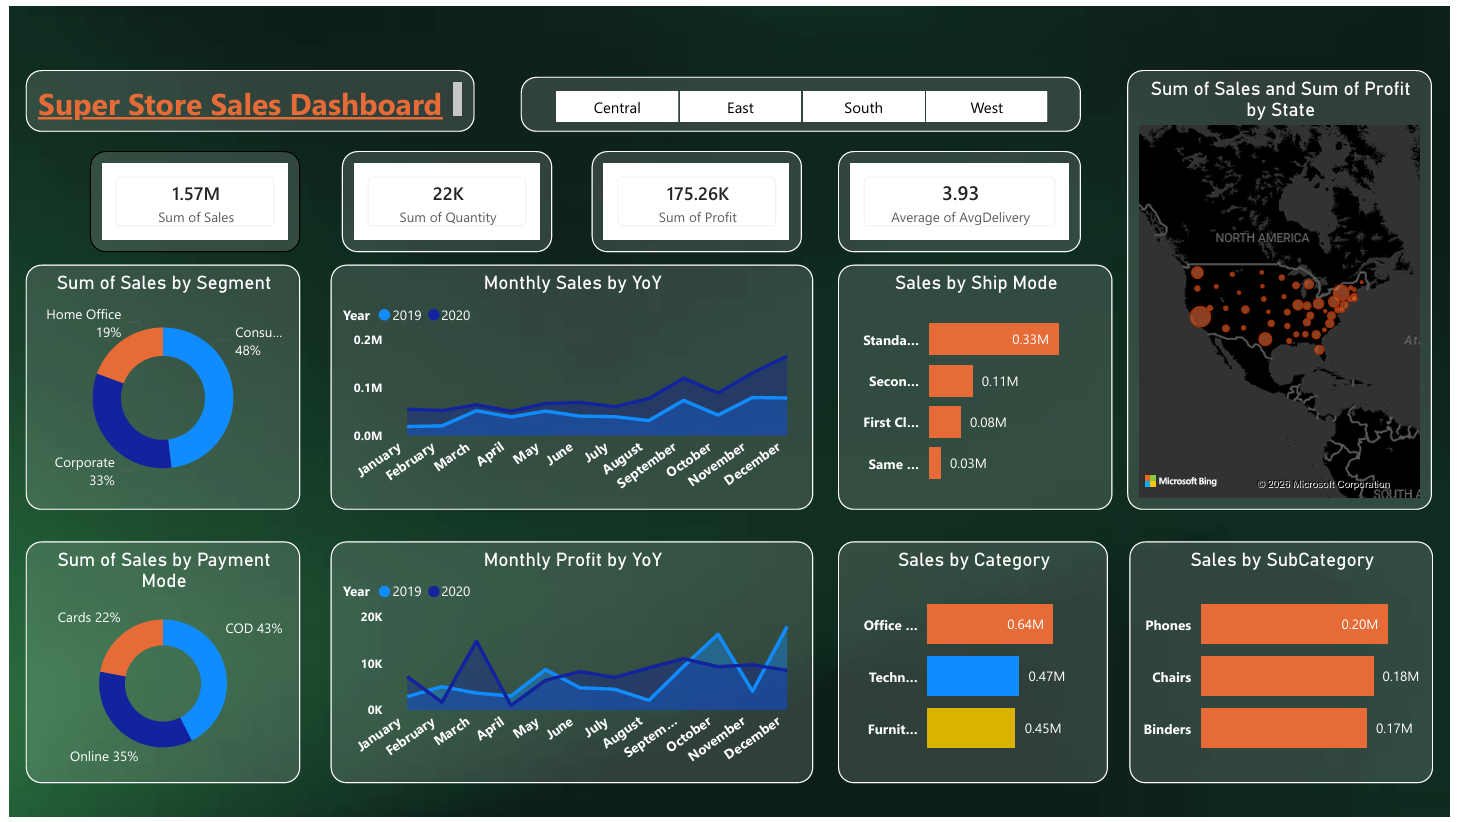

The dashboard page shown, as its layout file describes it:
{"tool":"powerbi","page":{"name":"Page 1","canvas":[1280,720],"ordinal":0},"visuals":[{"type":"barChart","title":"Sales by Category","fields":{"Category":["SuperStore_Sales_Dataset.Category"],"Y":["Sum(SuperStore_Sales_Dataset.Sales)"]},"box":[735.5,474.8,240.1,215.4],"z":0},{"type":"clusteredBarChart","title":"Sales by SubCategory","fields":{"Category":["SuperStore_Sales_Dataset.Sub-Category"],"Y":["Sum(SuperStore_Sales_Dataset.Sales)"]},"box":[994.9,474.8,270.3,215.4],"z":1000},{"type":"clusteredBarChart","title":"Sales by Ship Mode","fields":{"Y":["Sum(SuperStore_Sales_Dataset.Sales)"],"Category":["SuperStore_Sales_Dataset.Ship Mode"]},"box":[735.5,229.2,244.3,218.2],"z":2000},{"type":"areaChart","title":"Monthly Sales by YoY","fields":{"Y":["Sum(SuperStore_Sales_Dataset.Sales)"],"Category":["SuperStore_Sales_Dataset.Order Date.Variation.Date Hierarchy.Month","SuperStore_Sales_Dataset.Order Date.Variation.Date Hierarchy.Day"],"Series":["SuperStore_Sales_Dataset.Order Date.Variation.Date Hierarchy.Year"]},"box":[285.4,229.2,428.1,218.2],"z":3000},{"type":"areaChart","title":"Monthly Profit by YoY","fields":{"Category":["SuperStore_Sales_Dataset.Order Date.Variation.Date Hierarchy.Month","SuperStore_Sales_Dataset.Order Date.Variation.Date Hierarchy.Day"],"Series":["SuperStore_Sales_Dataset.Order Date.Variation.Date Hierarchy.Year"],"Y":["Sum(SuperStore_Sales_Dataset.Profit)"]},"box":[285.4,474.8,428.1,215.4],"z":4000},{"type":"map","title":"Sum of Sales and Sum of Profit by State","fields":{"Category":["SuperStore_Sales_Dataset.State"],"Size":["Sum(SuperStore_Sales_Dataset.Sales)"]},"box":[993.5,56.3,270.3,391.1],"z":5000},{"type":"donutChart","fields":{"Category":["SuperStore_Sales_Dataset.Segment"],"Y":["Sum(SuperStore_Sales_Dataset.Sales)"]},"box":[13.7,229.2,244.3,218.2],"z":6000},{"type":"donutChart","fields":{"Y":["Sum(SuperStore_Sales_Dataset.Sales)"],"Category":["SuperStore_Sales_Dataset.Payment Mode"]},"box":[13.7,474.8,244.3,215.4],"z":7000},{"type":"slicer","fields":{"Values":["SuperStore_Sales_Dataset.Region"]},"box":[454.2,61.7,498.1,49.4],"z":8000},{"type":"textbox","box":[13.7,56.3,399.3,54.9],"z":9000},{"type":"cardVisual","fields":{"Data":["Sum(SuperStore_Sales_Dataset.Sales)"]},"box":[71.4,127.6,186.6,90.6],"z":10000},{"type":"cardVisual","fields":{"Data":["Sum(SuperStore_Sales_Dataset.Quantity)"]},"box":[295,127.6,186.6,90.6],"z":11000},{"type":"cardVisual","fields":{"Data":["Sum(SuperStore_Sales_Dataset.Profit)"]},"box":[517.3,127.6,186.6,90.6],"z":12000},{"type":"cardVisual","fields":{"Data":["Avg(SuperStore_Sales_Dataset.AvgDelivery)"]},"box":[735.5,127.6,216.8,90.6],"z":13000}]}

Visuals, with their boxes in screenshot pixels (x1, y1, x2, y2), scaled from the page's 1280x720 canvas onto the 1457x822 screenshot:
"Sales by Category" barChart: detection(837, 542, 1111, 788)
"Sales by SubCategory" clusteredBarChart: detection(1132, 542, 1440, 788)
"Sales by Ship Mode" clusteredBarChart: detection(837, 262, 1115, 511)
"Monthly Sales by YoY" areaChart: detection(325, 262, 812, 511)
"Monthly Profit by YoY" areaChart: detection(325, 542, 812, 788)
"Sum of Sales and Sum of Profit by State" map: detection(1131, 64, 1439, 511)
donutChart - SuperStore_Sales_Dataset.Segment x Sum(SuperStore_Sales_Dataset.Sales): detection(16, 262, 294, 511)
donutChart - Sum(SuperStore_Sales_Dataset.Sales) x SuperStore_Sales_Dataset.Payment Mode: detection(16, 542, 294, 788)
slicer - SuperStore_Sales_Dataset.Region: detection(517, 70, 1084, 127)
textbox: detection(16, 64, 470, 127)
cardVisual - Sum(SuperStore_Sales_Dataset.Sales): detection(81, 146, 294, 249)
cardVisual - Sum(SuperStore_Sales_Dataset.Quantity): detection(336, 146, 548, 249)
cardVisual - Sum(SuperStore_Sales_Dataset.Profit): detection(589, 146, 801, 249)
cardVisual - Avg(SuperStore_Sales_Dataset.AvgDelivery): detection(837, 146, 1084, 249)
